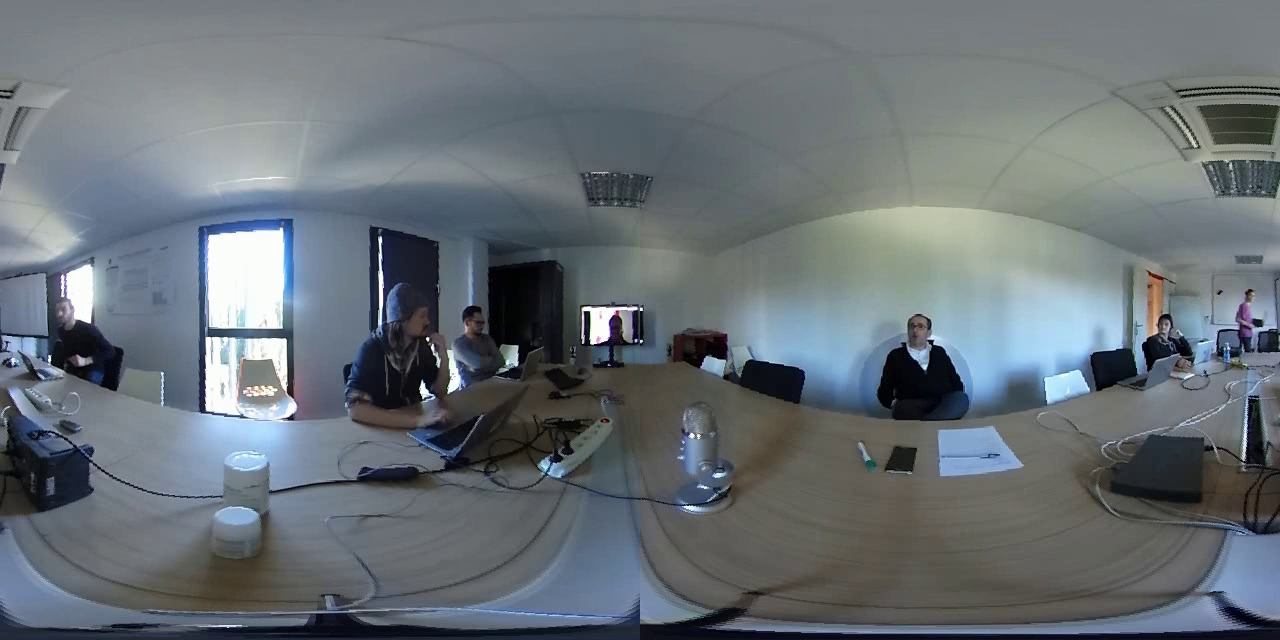person: (340, 273, 446, 429), (867, 304, 973, 419), (41, 276, 110, 391), (455, 285, 507, 389), (577, 304, 644, 344), (1146, 303, 1188, 362), (1229, 282, 1265, 343)
